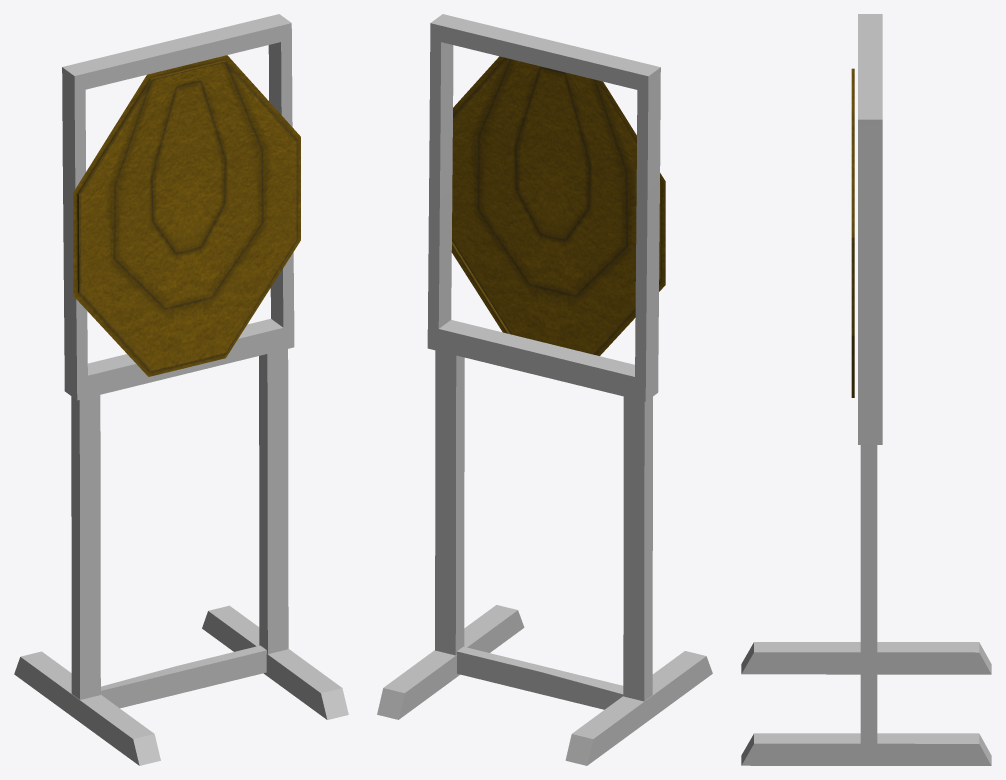
File: IPSC 纸靶-黄色01.FBX
3 views of the same model, side by side, from view 1: azimuth 30°, elevation 25°; view 2: azimuth 150°, elevation 25°; view 3: azimuth 270°, elevation 25° (orthographic).
Parts seen in each view (by area): view 1: Object27, Box03SS16; view 2: Box03SS16, Object27; view 3: Box03SS16, Object27.
Boxes of the visible parts, left/top/right/bottom form: Object27: left=73, top=55, right=300, bottom=376; Box03SS16: left=14, top=14, right=348, bottom=765; Box03SS16: left=377, top=14, right=712, bottom=765; Object27: left=451, top=56, right=665, bottom=355; Box03SS16: left=741, top=14, right=991, bottom=765; Object27: left=851, top=68, right=854, bottom=397.
Bounding box in the file's own units: 10.38 × 9.9 × 28.25.
